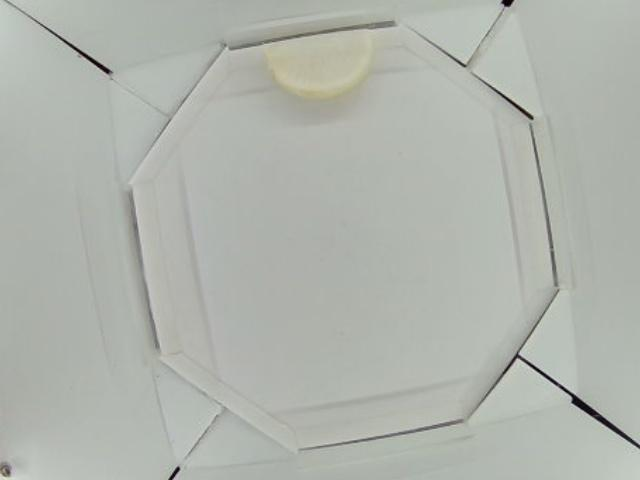Mooli: (260, 29, 373, 101)
